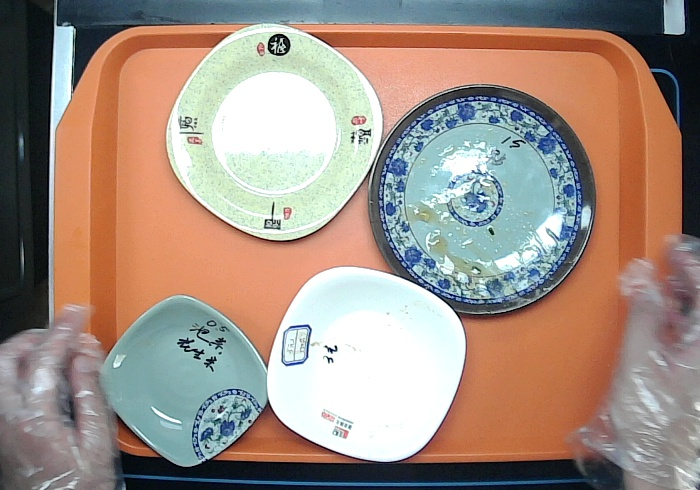NLDX-Bai_Se_Xiao_Fang_Die: (267, 265, 466, 465)
NLDX-Fu_Zi_Fang_Die: (165, 22, 383, 242)
NLDX-Qing_Hua_Xiao_Fang_Die: (99, 294, 268, 469)
NLDX-Qing_Hua_Yuan_Die: (369, 84, 597, 315)
